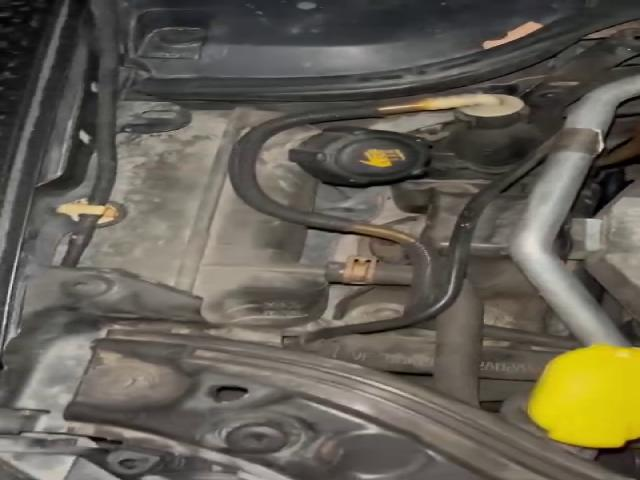antifreeze_tank: (86, 109, 329, 330), (256, 126, 428, 210)
